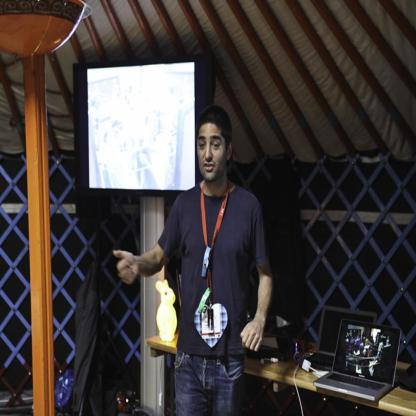board: (314, 322, 394, 398)
